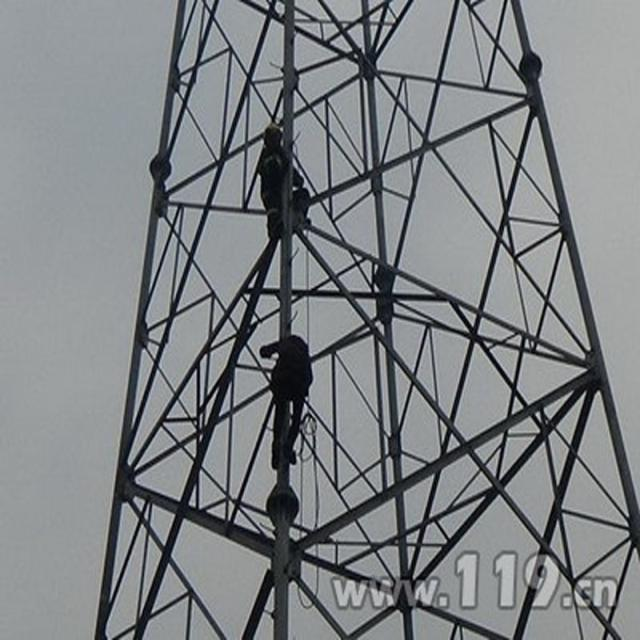non-critical vegetation: (85, 9, 636, 634)
